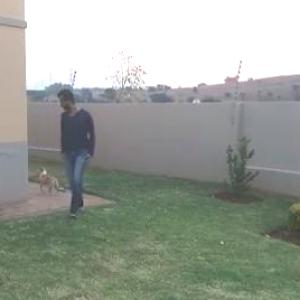follow: (54, 82, 94, 222)
